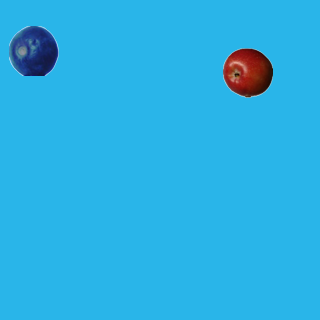Apple Braeburn: (222, 47, 272, 97)
Huckleberry: (8, 25, 58, 75)
